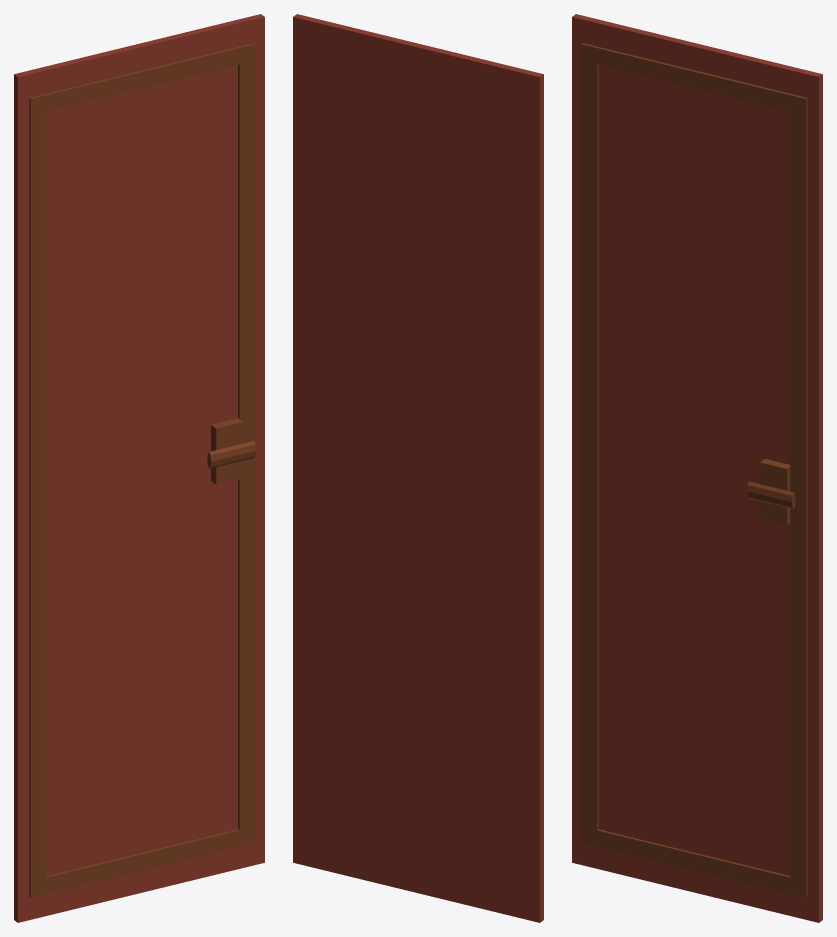
File: FRM_020_B_LODs.fbx
3 renders of one model, left to right at view 1: azimuth 30°, elevation 25°; view 2: azimuth 150°, elevation 25°; view 3: azimuth 330°, elevation 25°, orthographic.
Visible parts, largest first — view 1: FRM_020_B_LOD0; view 2: FRM_020_B_LOD0; view 3: FRM_020_B_LOD0.
Part boxes in pixels (x1,y1,x2,y2): FRM_020_B_LOD0: [14, 14, 264, 922]; FRM_020_B_LOD0: [293, 14, 543, 922]; FRM_020_B_LOD0: [572, 14, 822, 922].
Size of what is drawn, in the model's own units: 0.55 by 1.8 by 0.05.
